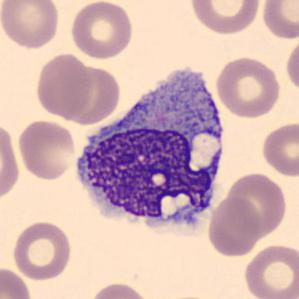Monocyte: (70, 59, 232, 242)
RBC: (214, 54, 282, 120), (224, 170, 288, 238), (33, 51, 95, 120), (68, 0, 135, 61), (16, 118, 79, 182), (10, 219, 74, 282), (206, 194, 263, 258), (242, 242, 298, 299), (0, 0, 61, 50), (187, 0, 262, 36), (259, 119, 298, 179), (0, 118, 21, 205), (259, 0, 298, 41), (87, 280, 151, 299), (0, 265, 34, 299), (284, 36, 299, 96)
